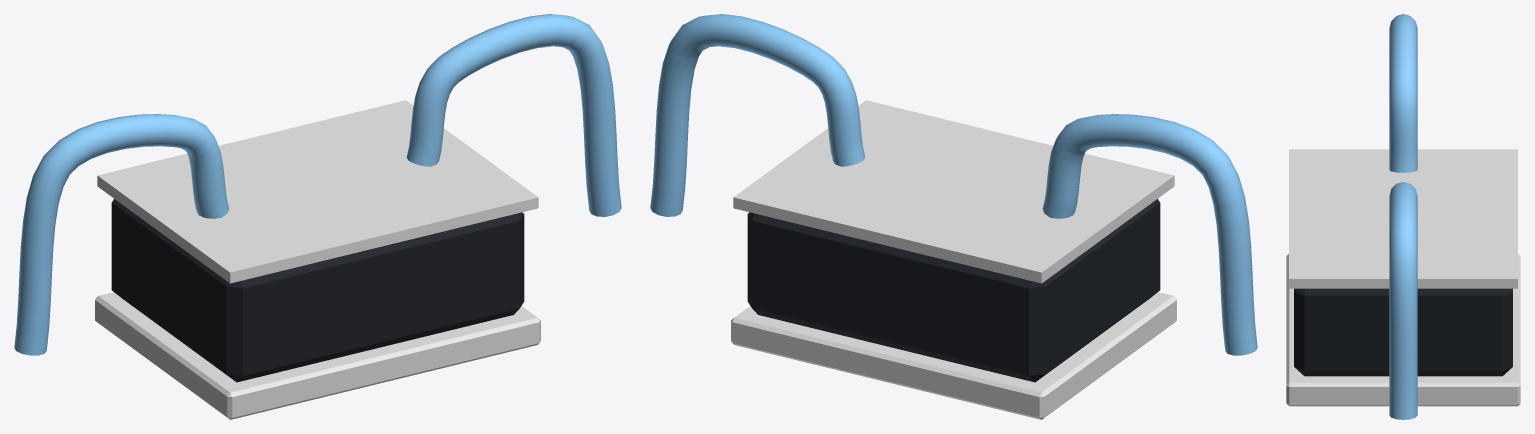
File: hw_cool_two_phase.glb
3 views of the same model, side by side, from view 1: azimuth 30°, elevation 25°; view 2: azimuth 150°, elevation 25°; view 3: azimuth 270°, elevation 25° (orthographic). The views are drawn at different scales.
Parts seen in each view (by area): view 1: Body, Flow_2, Flow_1; view 2: Body, Flow_2, Flow_1; view 3: Body, Flow_1, Flow_2.
Boxes of the visible parts, x1=… form: Body: x1=95, y1=100, x2=540, y2=419; Flow_2: x1=14, y1=114, x2=229, y2=355; Flow_1: x1=406, y1=14, x2=621, y2=216; Body: x1=731, y1=100, x2=1176, y2=419; Flow_2: x1=1042, y1=114, x2=1257, y2=355; Flow_1: x1=650, y1=14, x2=865, y2=216; Body: x1=1286, y1=149, x2=1520, y2=406; Flow_1: x1=1389, y1=182, x2=1417, y2=419; Flow_2: x1=1389, y1=14, x2=1417, y2=172.
Bounding box in the file's own units: 0.2307 × 0.0965 × 0.09.
